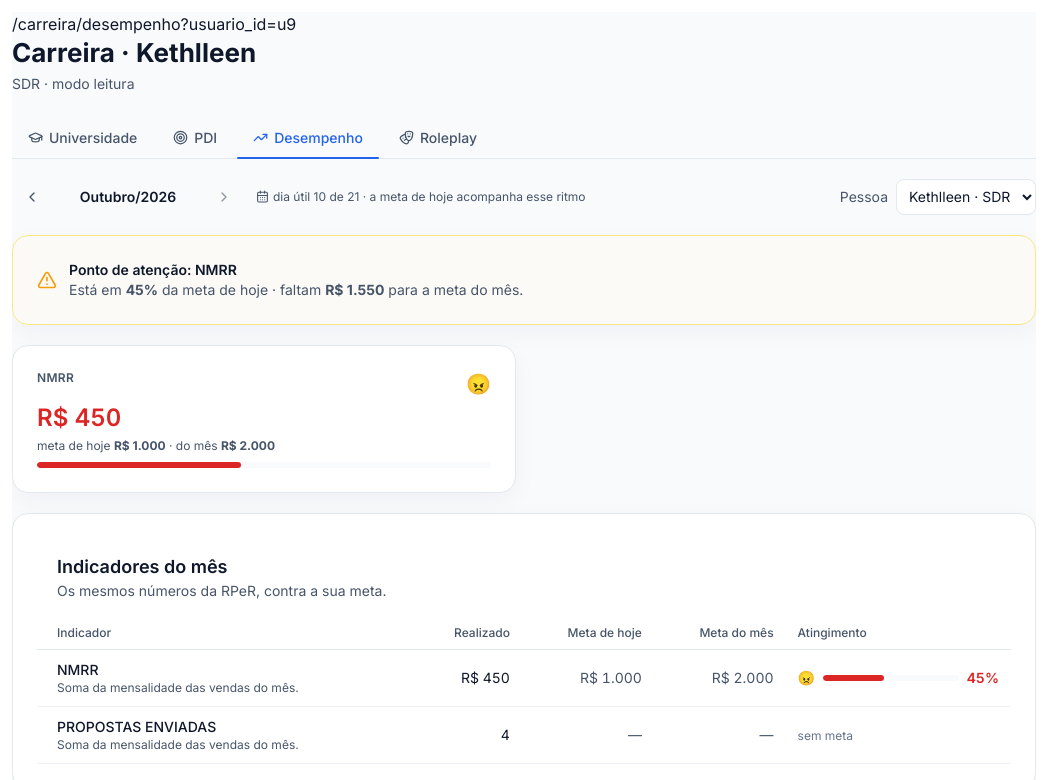
Test case: Desempenho › gestão escolhe a pessoa e vê em modo leitura, sem atalhos de ação
Expected: the heading "Carreira · Kethlleen" is shown, [12,36,256,70]
Expected: the text "Ponto de atenção: NMRR" is shown, [69,261,237,278]
Select "Aline · EC" in the dropdown labelled "Pessoa": (966,197) [896,179,1036,215]
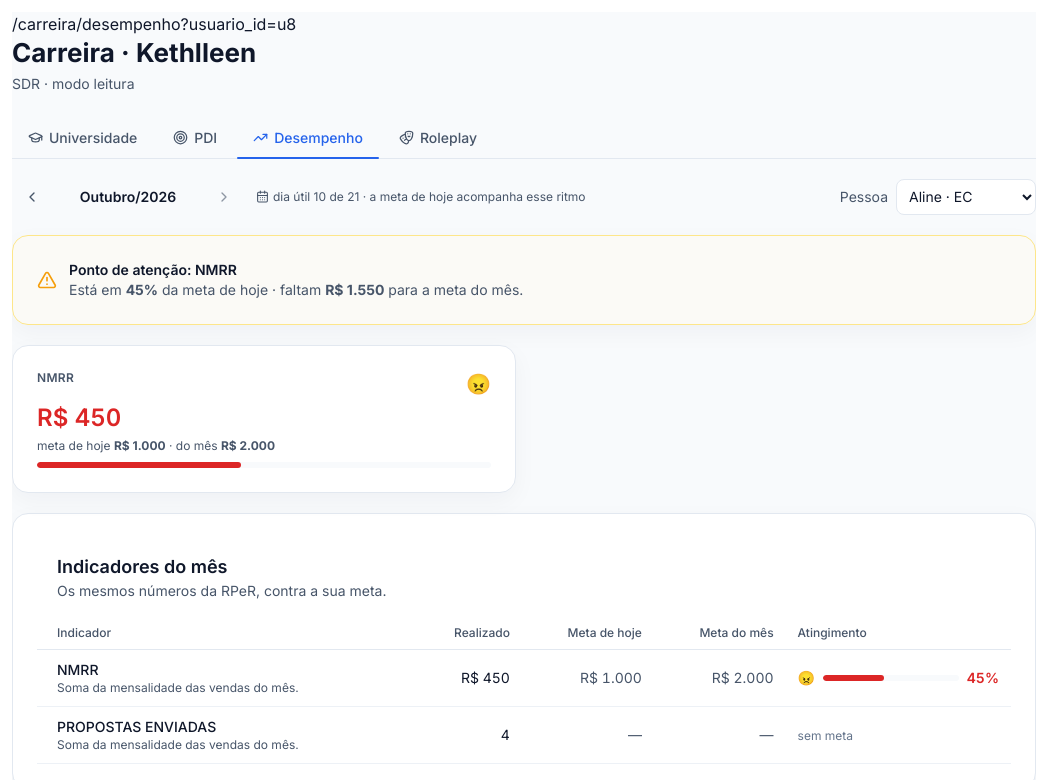
Expected: the text with test id "onde" reads "/carreira/desempenho?usuario_id=u8", [12,14,296,34]
